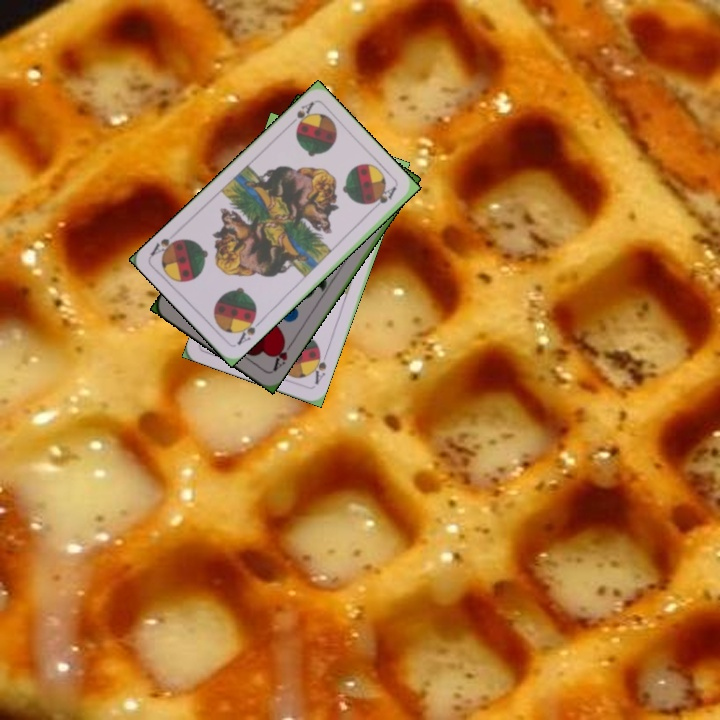HA: (269, 336, 296, 374)
SA: (284, 97, 317, 133), (233, 312, 264, 348), (307, 347, 329, 387)
